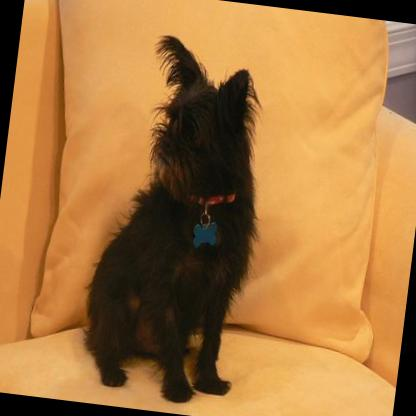affenpinscher: (72, 26, 282, 411)
